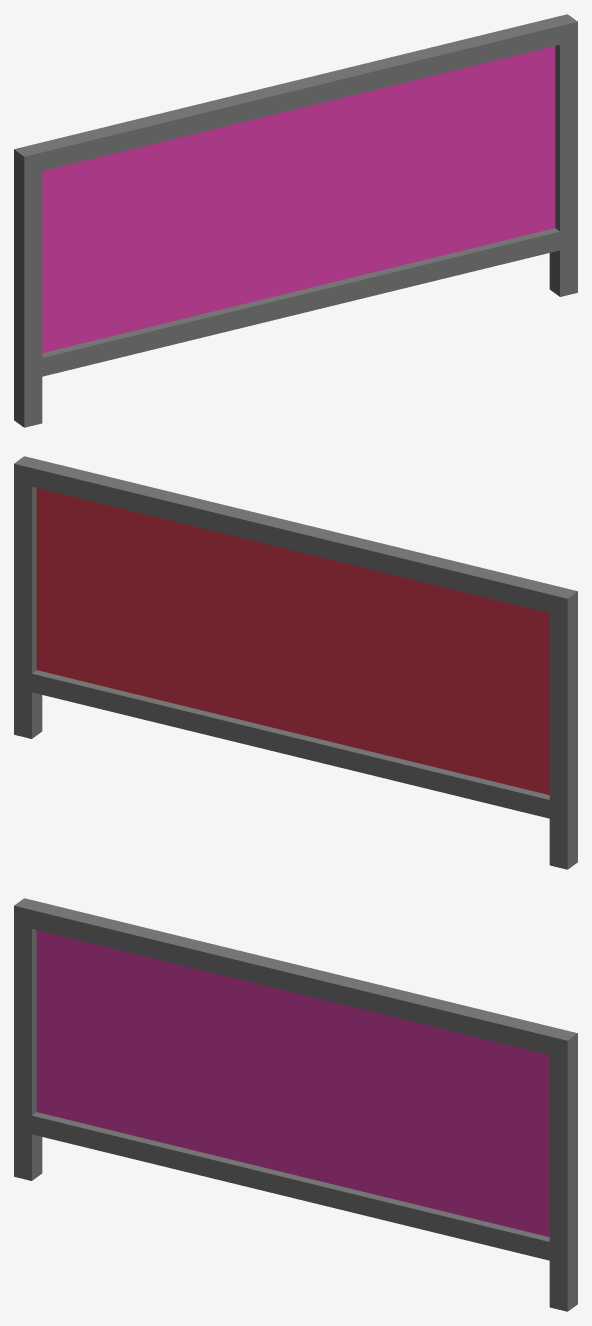
The model's file is AdvertisementSide 1.dae.
3 views of the same model, one above another, from view 1: azimuth 30°, elevation 25°; view 2: azimuth 150°, elevation 25°; view 3: azimuth 330°, elevation 25° (orthographic).
Visible parts, largest first — view 1: Plane; view 2: Plane; view 3: Plane.
Part boxes in pixels (left/top/right/bottom): Plane: left=14, top=14, right=577, bottom=427; Plane: left=14, top=456, right=577, bottom=869; Plane: left=14, top=898, right=577, bottom=1311.
Bounding box in the file's own units: 6.2 × 0.2 × 2.9.
